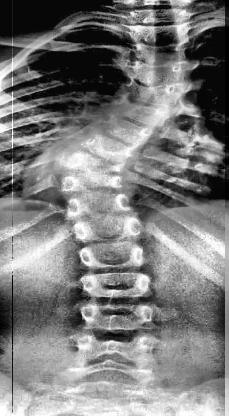Vertebrae: (76, 330, 154, 366), (75, 242, 153, 272), (79, 302, 155, 330), (81, 272, 155, 300), (74, 217, 150, 243), (95, 112, 153, 146), (62, 147, 126, 177), (79, 128, 135, 162), (124, 60, 194, 86), (124, 80, 187, 108), (114, 96, 170, 127), (123, 42, 192, 63), (64, 171, 128, 193), (66, 196, 136, 216), (130, 20, 190, 42), (128, 6, 192, 26)
